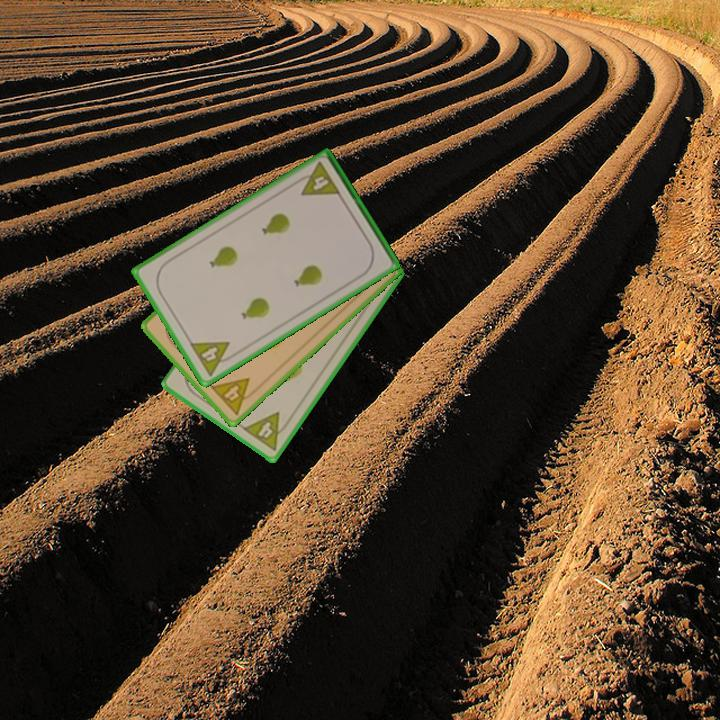4p: (239, 408, 293, 454), (207, 374, 261, 418), (186, 338, 239, 379), (292, 158, 343, 199)
